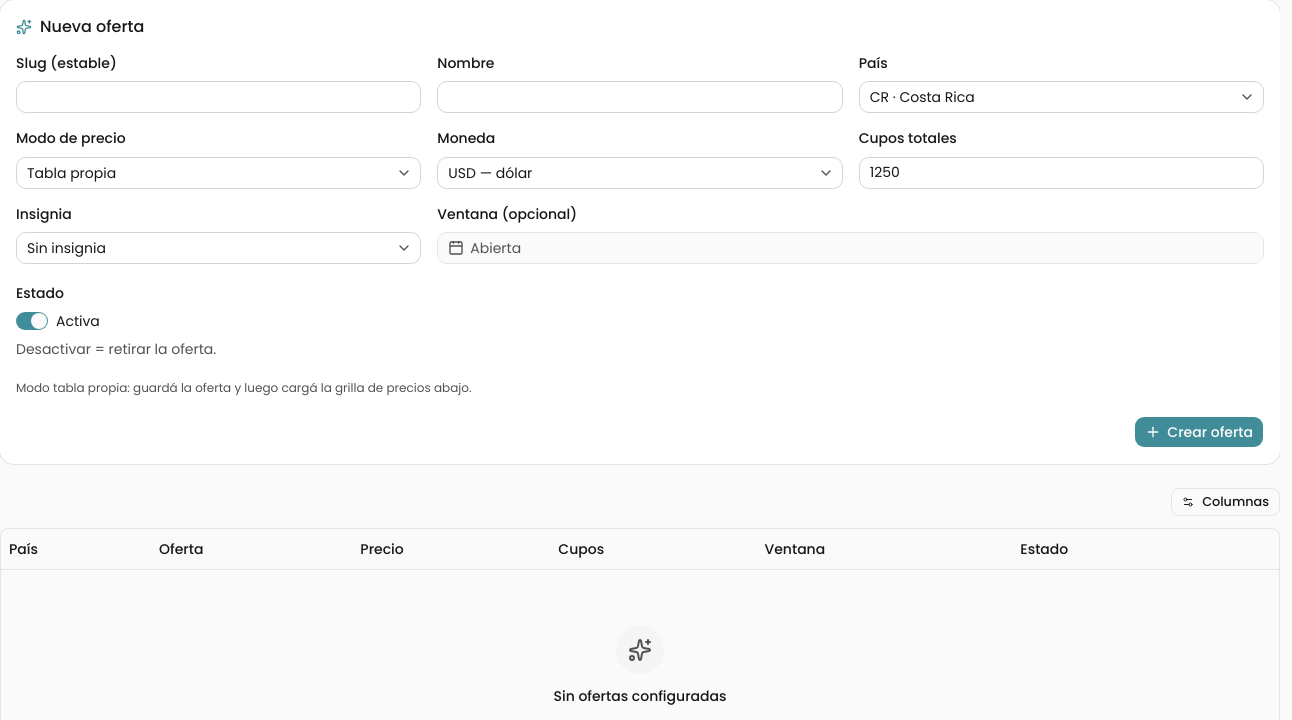
Test case: PromoOffersManager — oferta Default (sin país) › sin permiso de Default, la opción no está en el selector de país
Step 1. Click the dropdown named "País" → [937, 97], box [859, 81, 1264, 113]
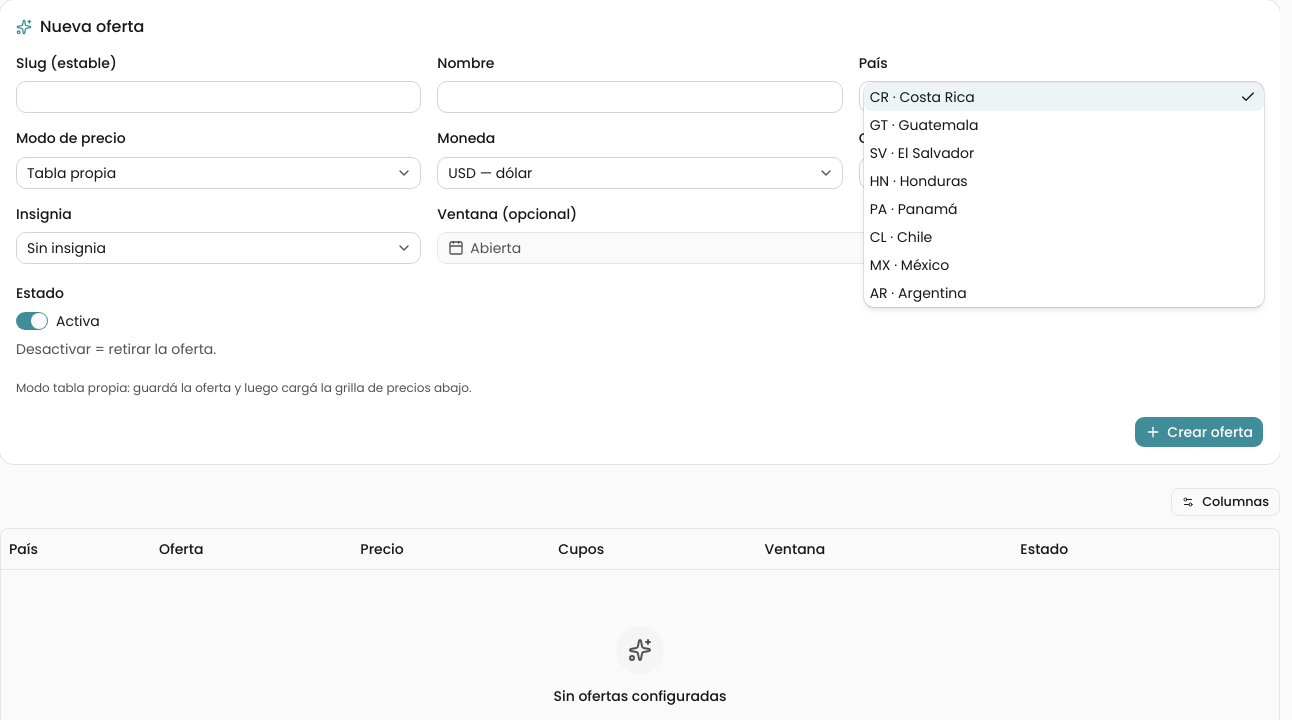
Expected: the option "CR · Costa Rica" is shown, [864, 83, 1264, 111]
